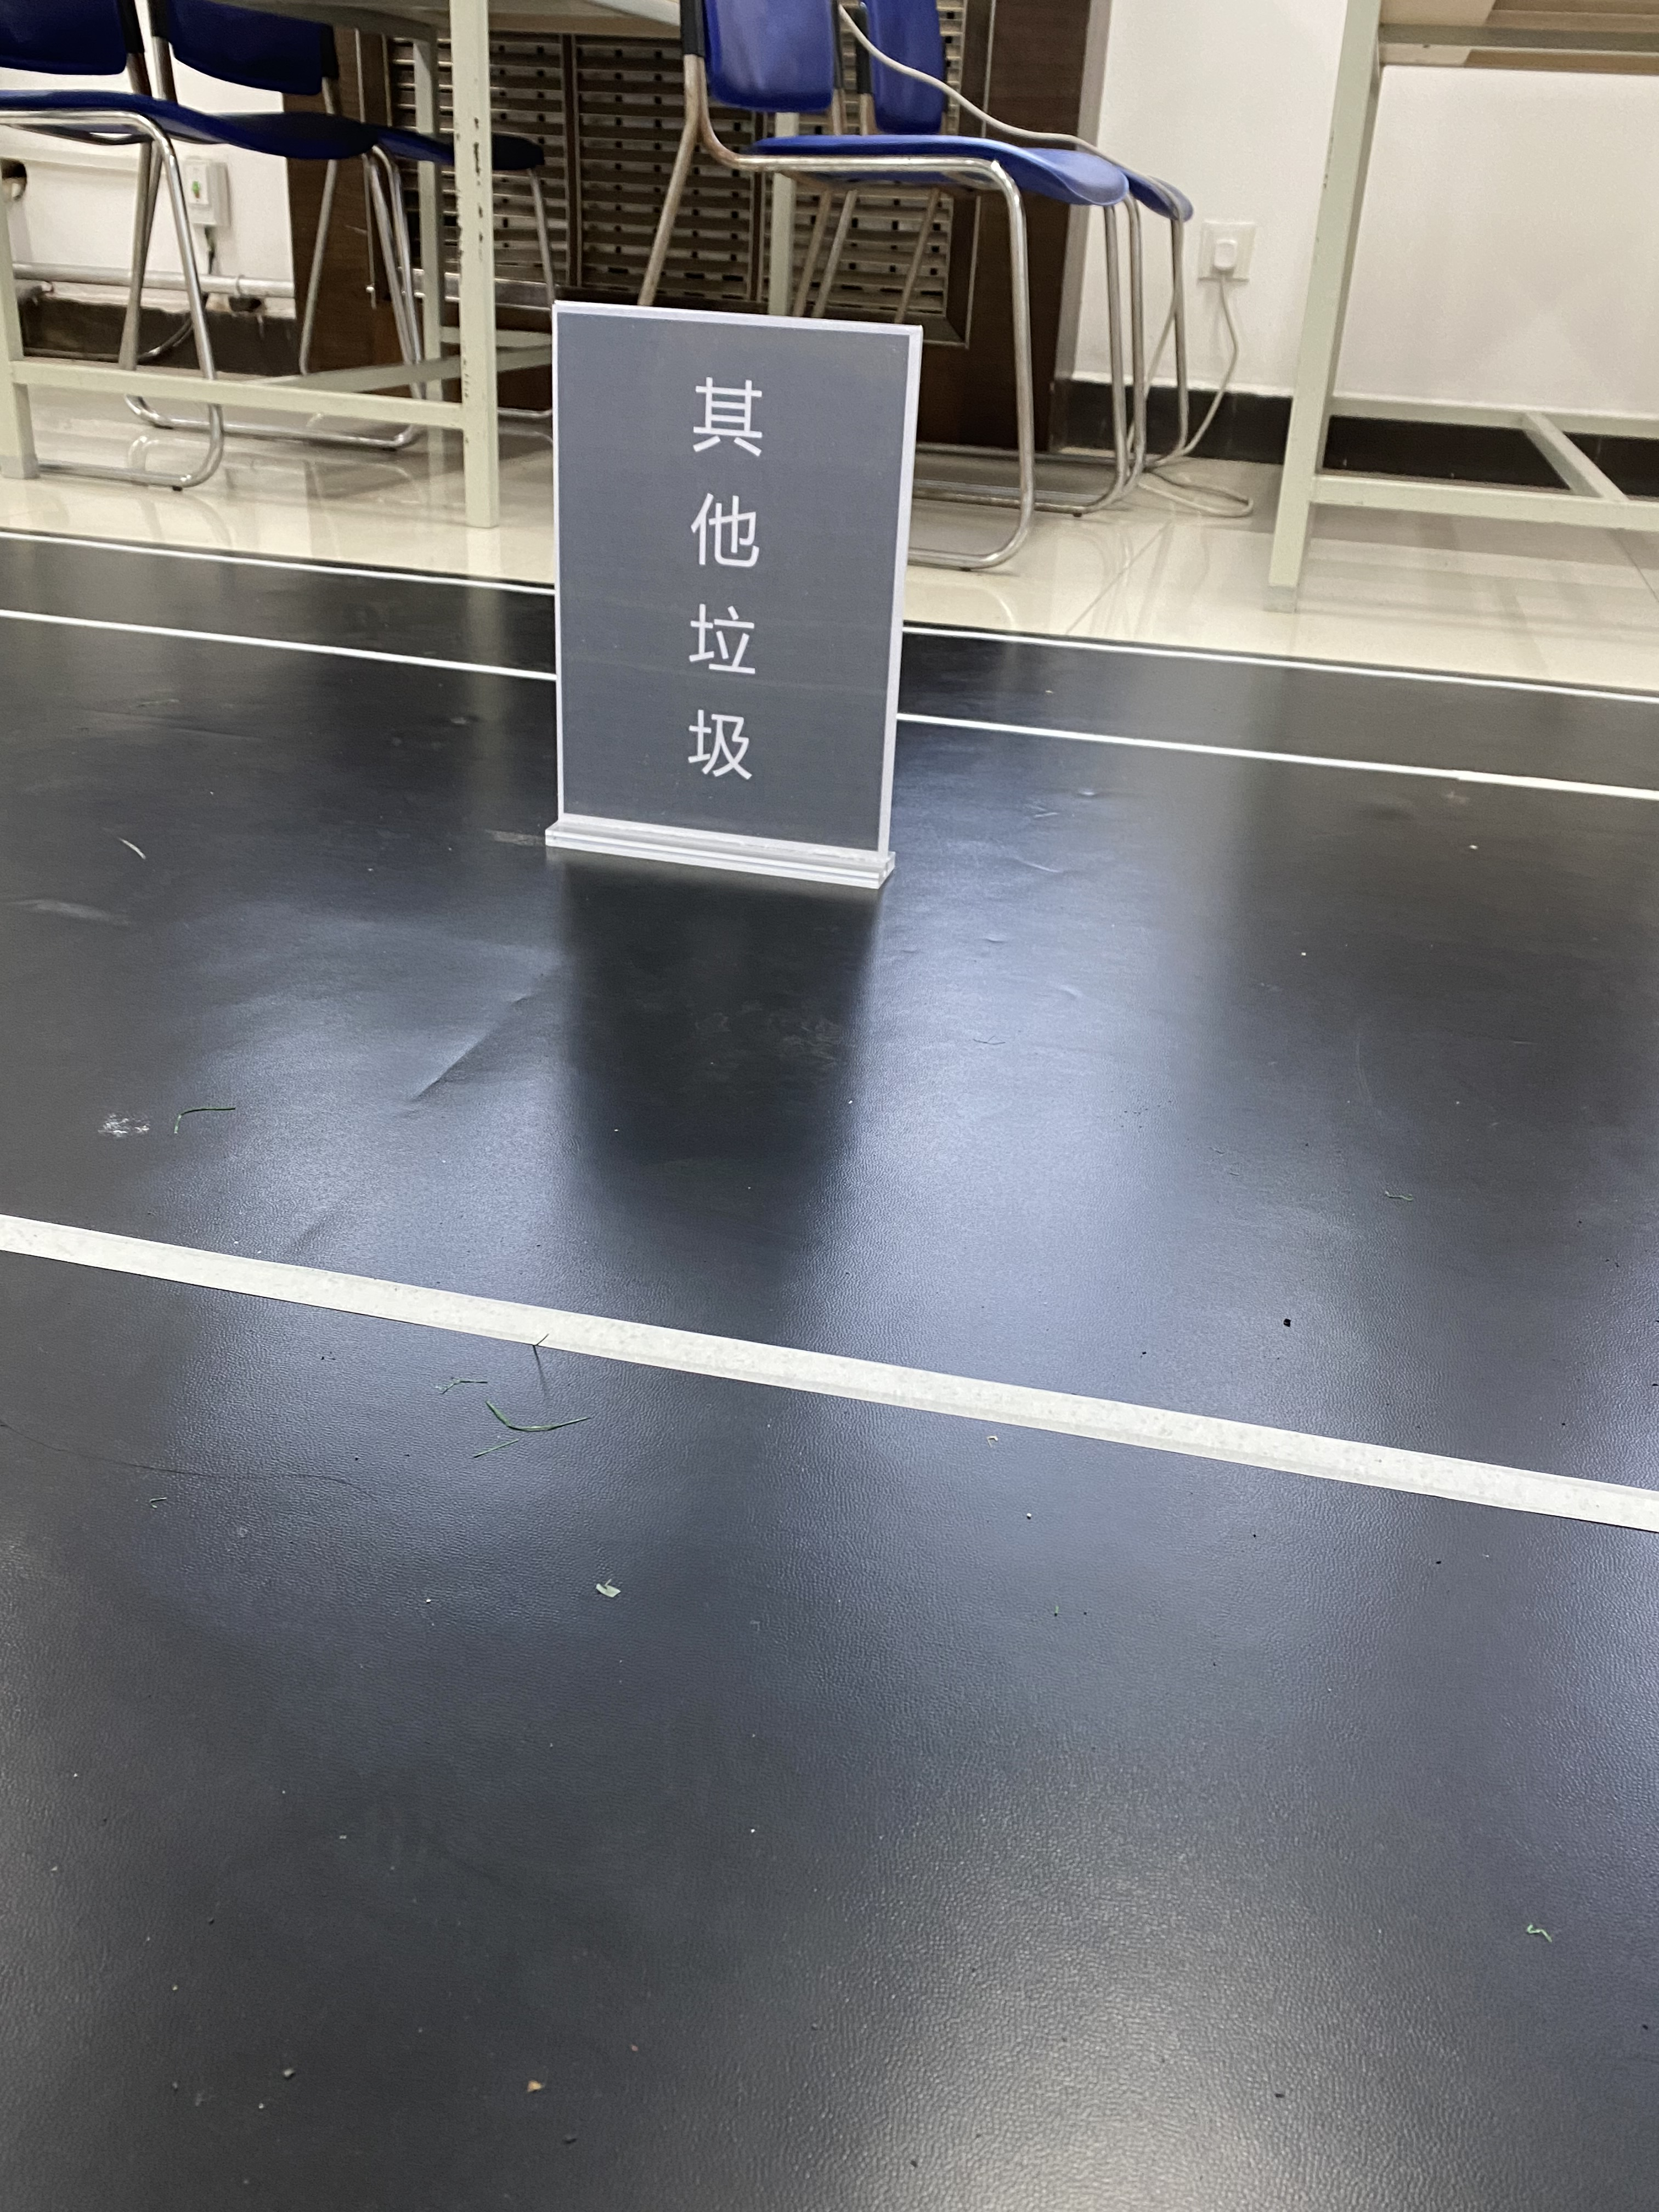black: (559, 324, 884, 805)
